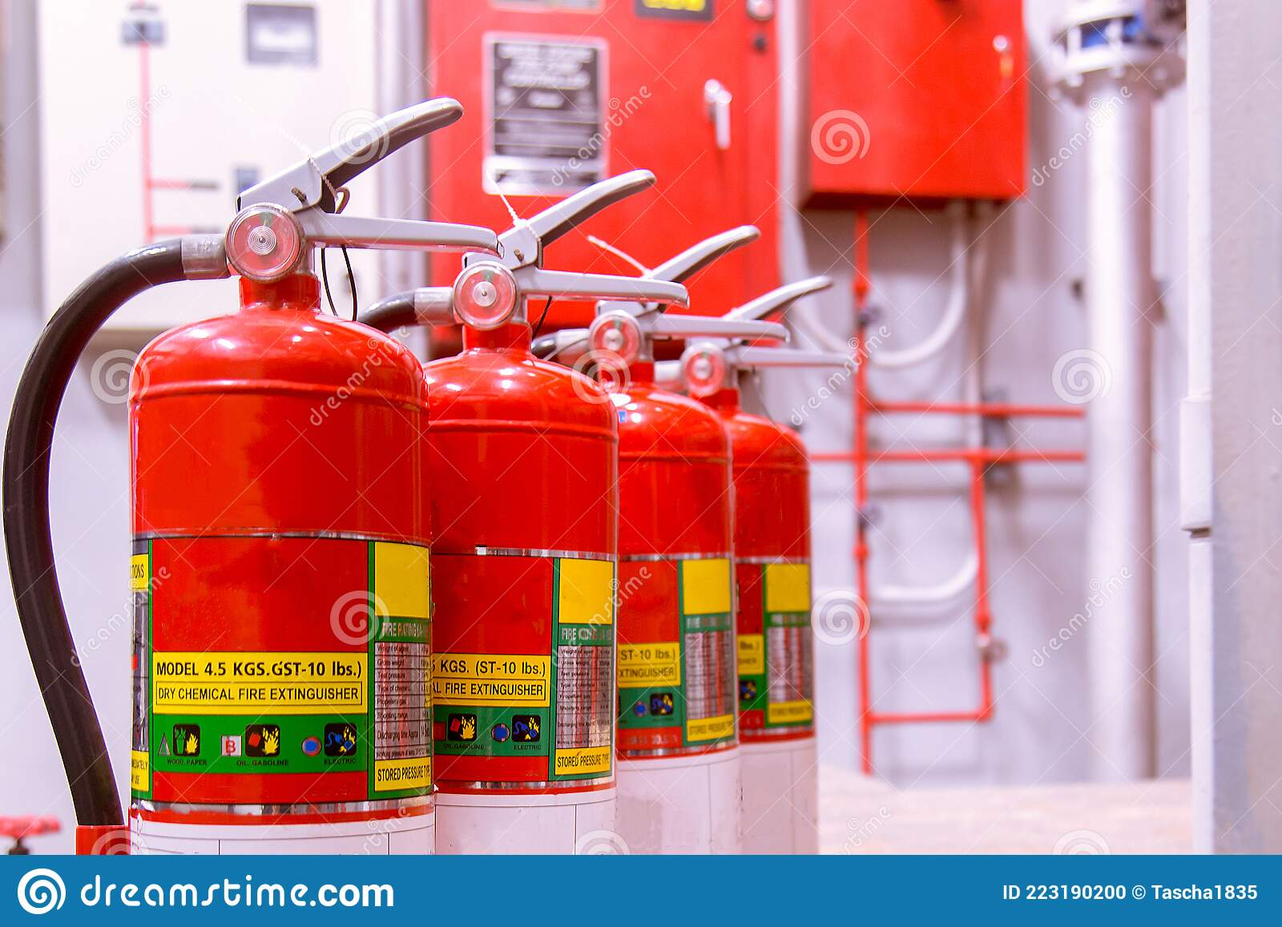fire_extinguisher: (3, 96, 849, 858), (3, 96, 481, 856), (352, 170, 669, 855), (530, 228, 746, 855), (661, 275, 851, 856)
